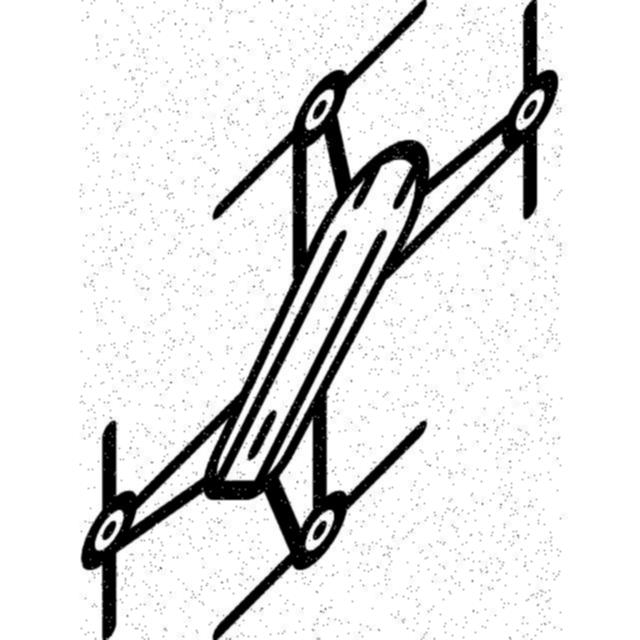drone: (81, 1, 563, 640)
